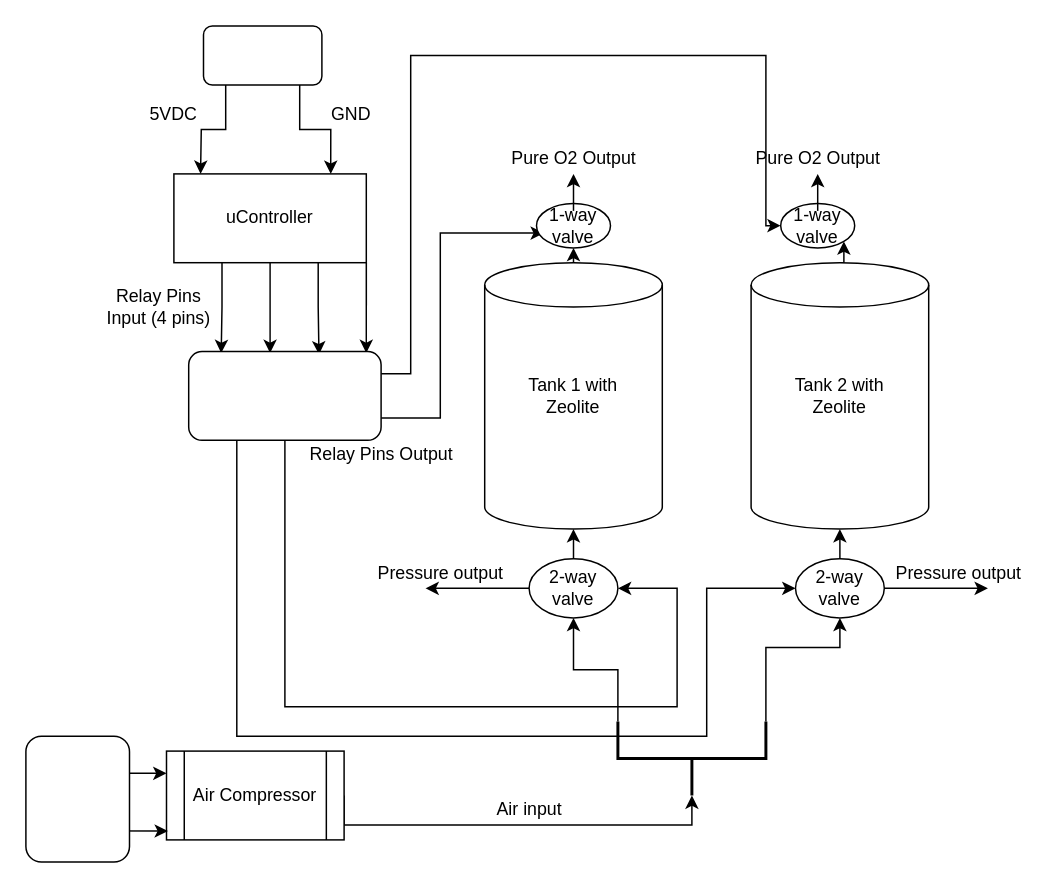
This 1058x888 diagram has some shape labels left out. The shapes that lost their labels are listed below. From the top down, each one's centre as x and y in pixels, then its label:
At (x=262, y=54): "5VDC & GND".
At (x=284, y=395): "4-channel relay module".
At (x=77, y=798): "High Ampere 24VDC".
